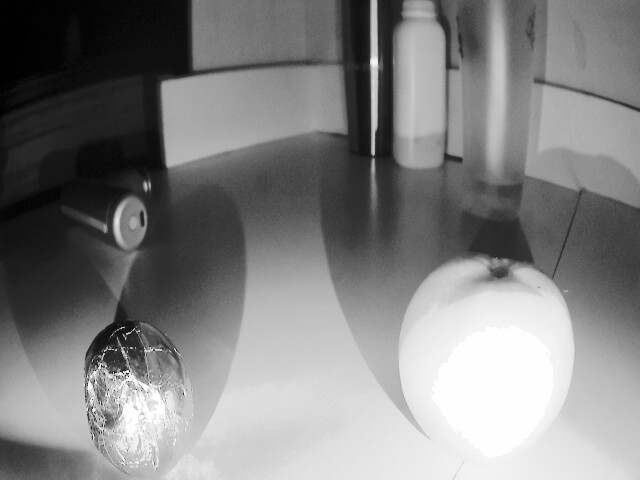black: (88, 318, 185, 480)
